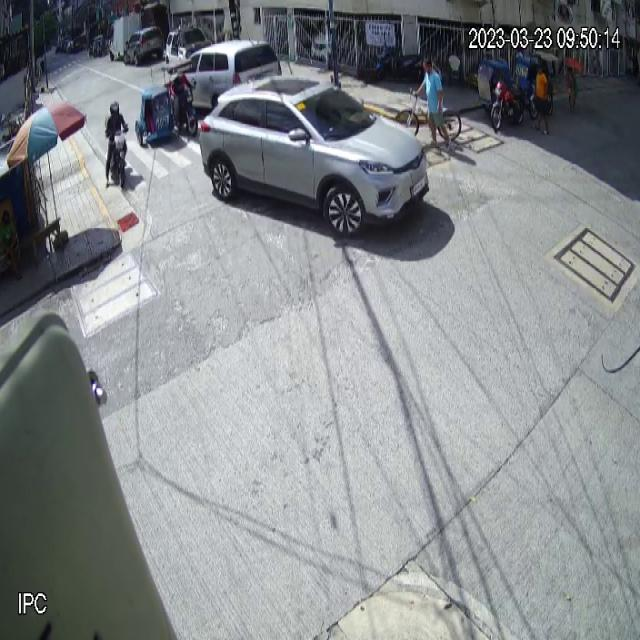Car: (198, 72, 430, 242)
Tricycle: (134, 61, 198, 149), (475, 57, 529, 130)
